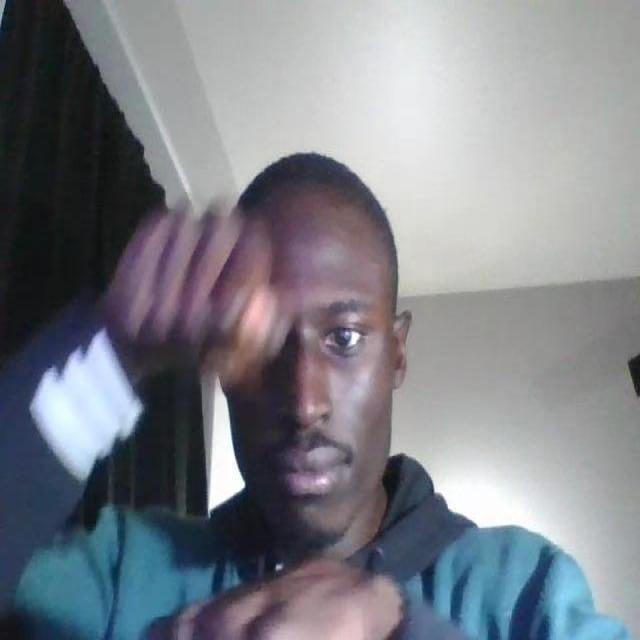no-helmet: (222, 279, 391, 548)
